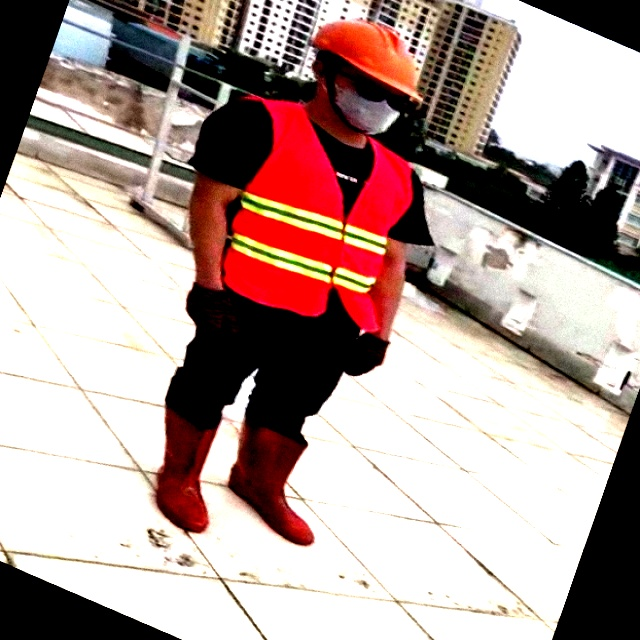Boots: (228, 415, 317, 554), (146, 402, 227, 533)
Gloves: (340, 328, 397, 374), (180, 286, 228, 337)
Hardhat: (309, 14, 430, 108)
Person: (104, 12, 488, 580)
Vest: (190, 97, 407, 338)
